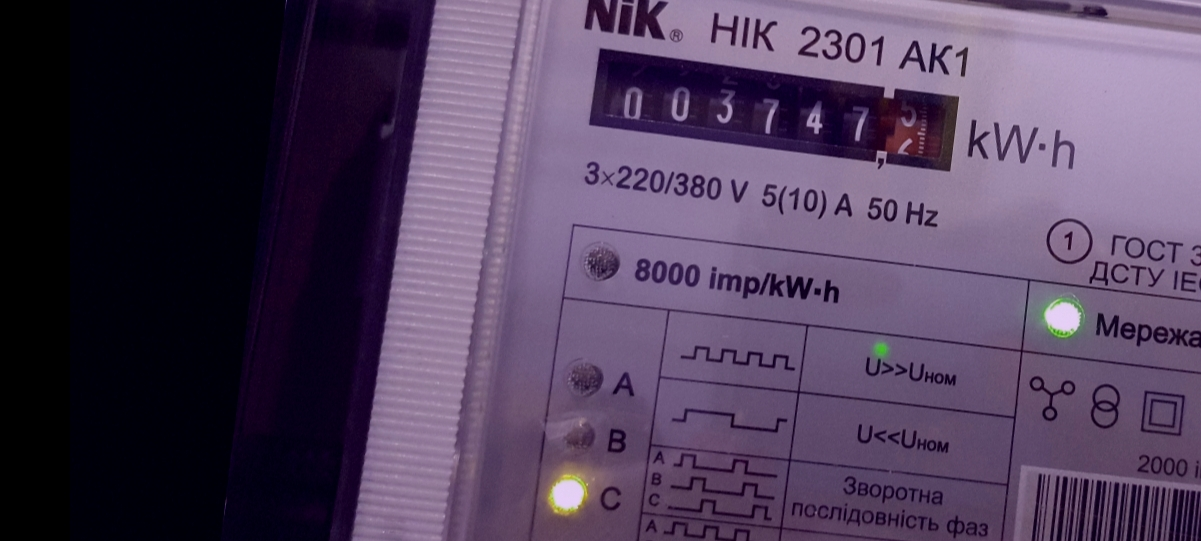0: (667, 81, 692, 122), (619, 82, 645, 120)
3: (713, 85, 736, 124)
4: (802, 95, 827, 137)
5: (897, 97, 919, 128)
6: (894, 133, 914, 156)
7: (845, 100, 872, 143), (756, 94, 780, 135)
screen: (577, 35, 975, 187)
